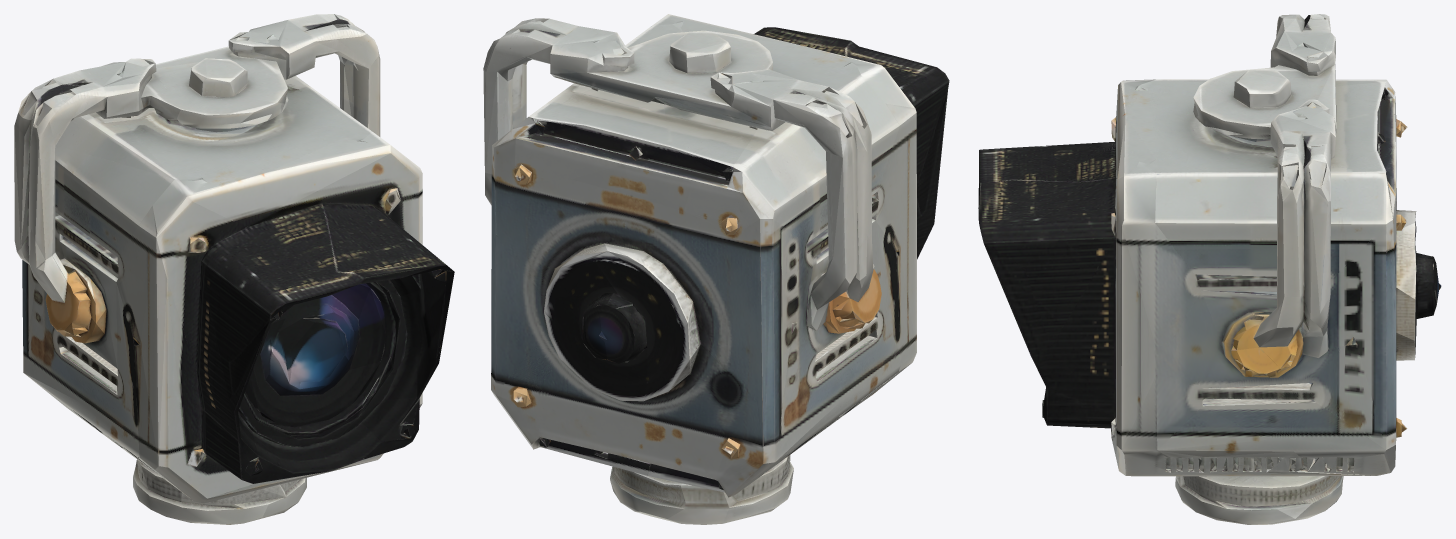
File: camera-textured.glb
3 renders of one model, left to right at view 1: azimuth 30°, elevation 25°; view 2: azimuth 150°, elevation 25°; view 3: azimuth 270°, elevation 25°, orthographic. The views are drawn at different scales.
Bounding box in the file's own units: 1.6 × 1.87 × 1.9.
1 material, 1 textured.
